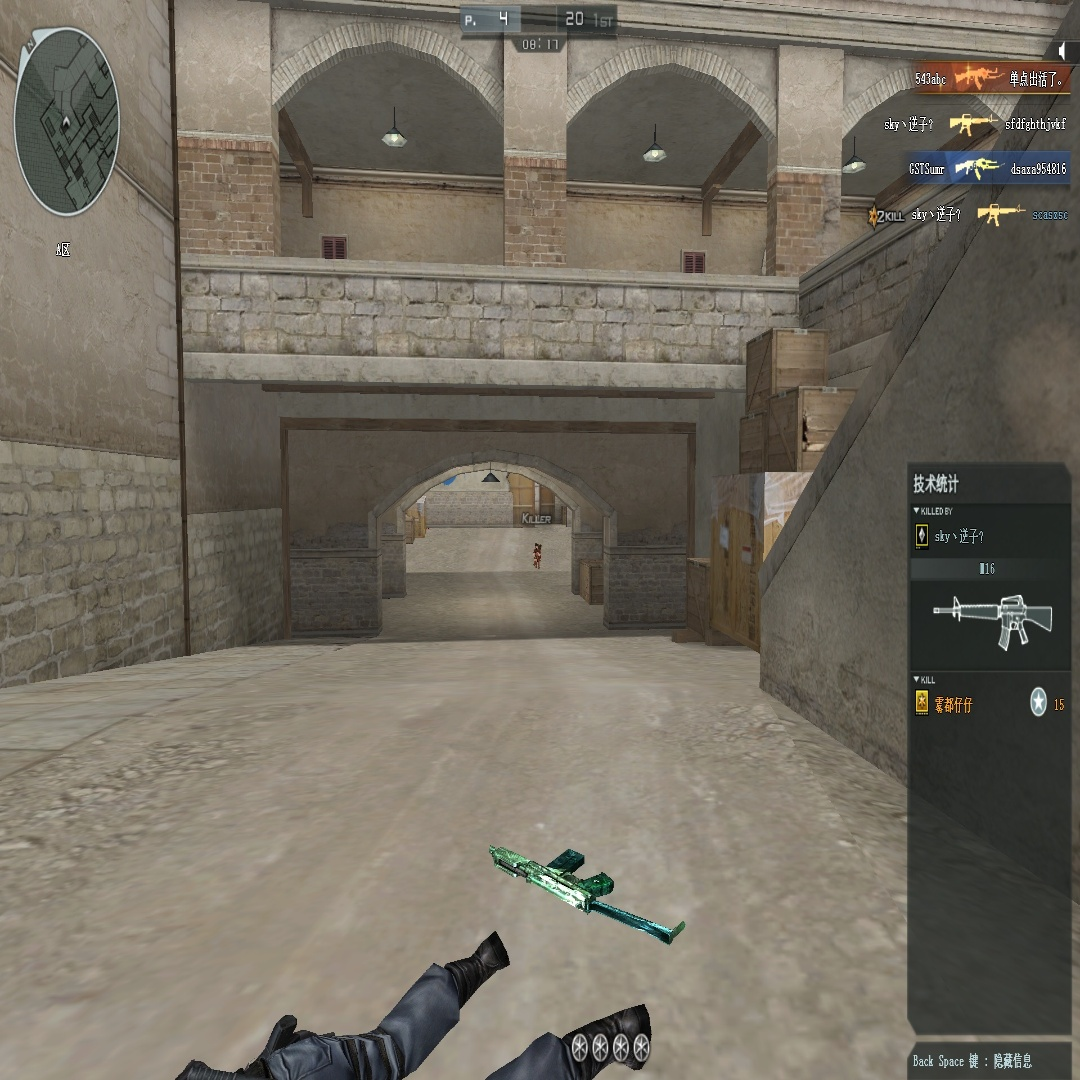p: (532, 542, 542, 570)
